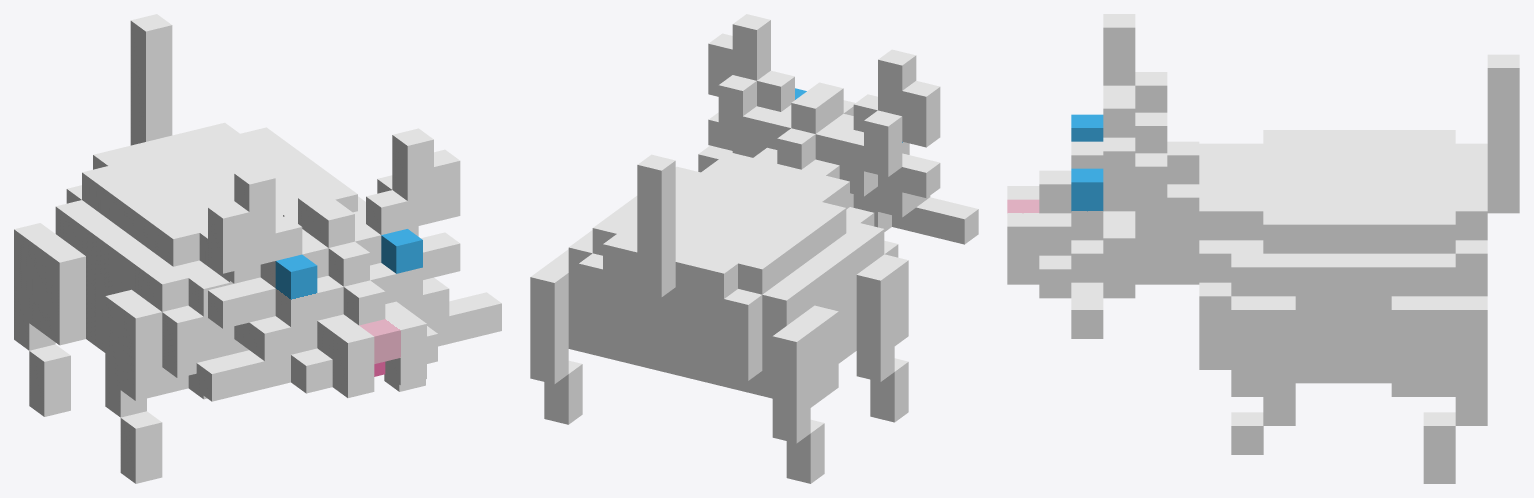
Rendered from WhiteCat.dae.
3 renders of one model, left to right at view 1: azimuth 30°, elevation 25°; view 2: azimuth 150°, elevation 25°; view 3: azimuth 270°, elevation 25°, orthographic. The views are drawn at different scales.
Visible parts, largest first — view 1: Matrix; view 2: Matrix; view 3: Matrix.
Part boxes in pixels (x1,y1,x2,y2): Matrix: (14,14,501,483); Matrix: (530,14,978,483); Matrix: (1007,14,1519,483).
Bounding box in the file's own units: 11 × 12 × 16.
1 material, 1 textured.
